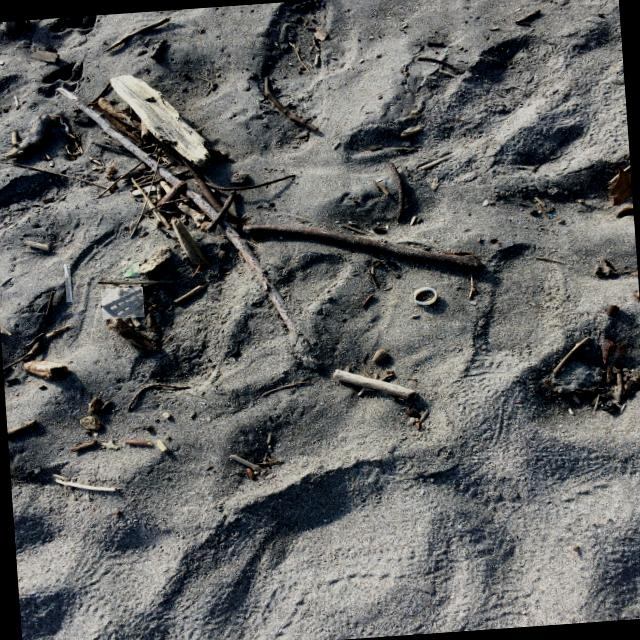Bottle cap: (412, 287, 436, 306)
Other plastic bottle: (102, 287, 143, 318), (64, 265, 72, 301), (122, 260, 138, 276)
